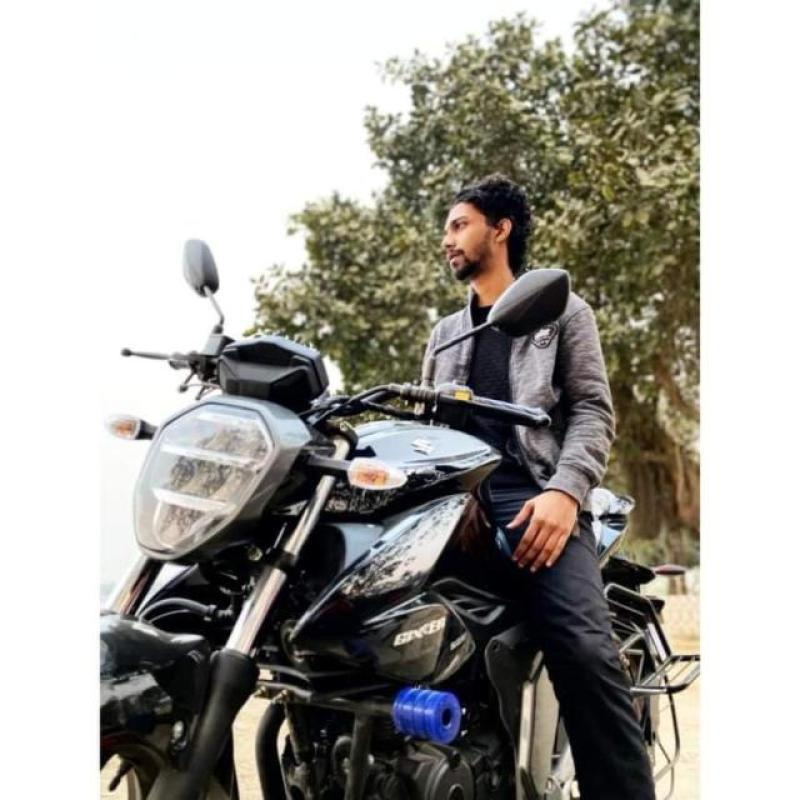nohelmet: (414, 179, 522, 292)
